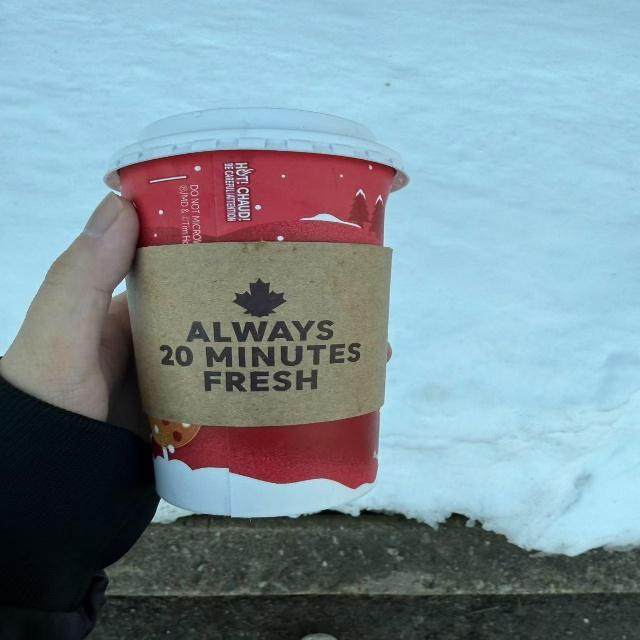timmies: (99, 105, 412, 524)
